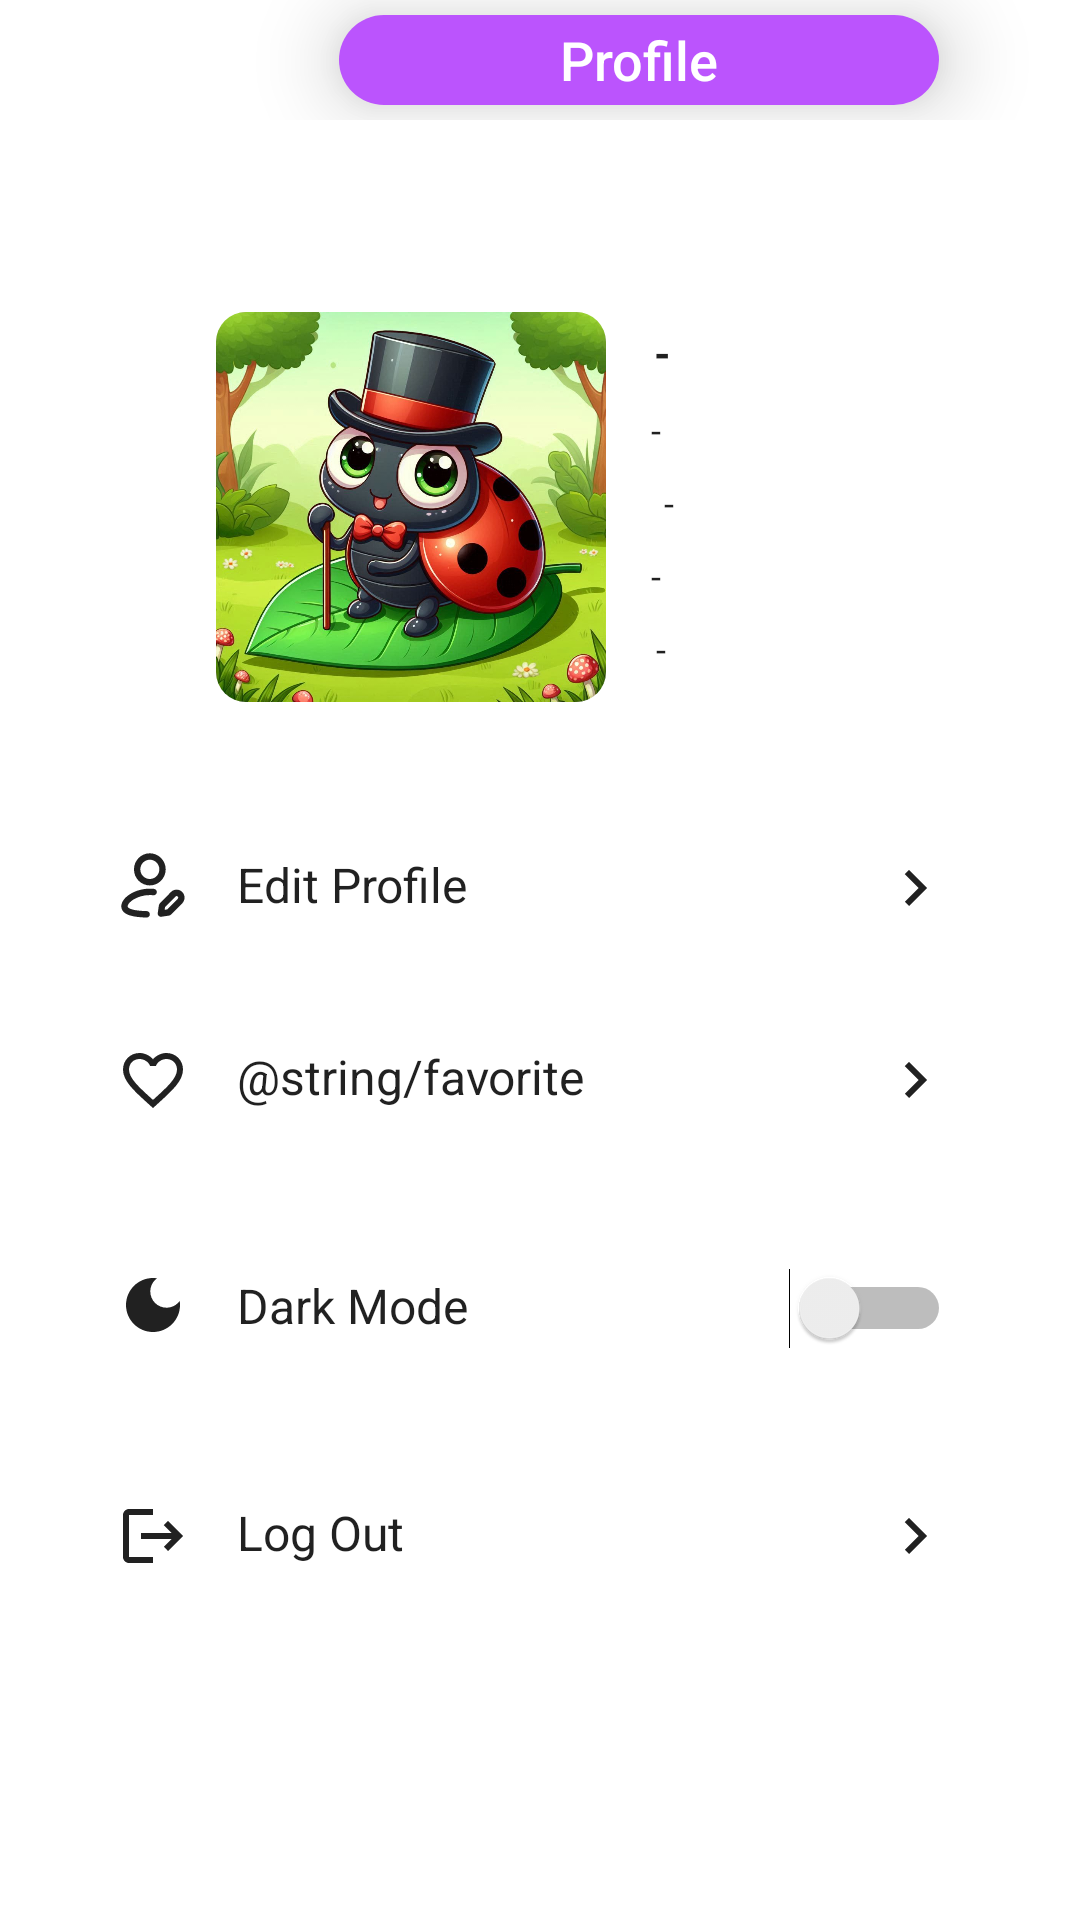

Where icons sit on this 1080 x 1920 app screen, as region(x1, y1, x2, y2):
favorite profile: region(123, 1053, 183, 1108)
keyboard arrow right: region(905, 870, 927, 906), region(905, 1062, 927, 1098), region(905, 1518, 927, 1554)
